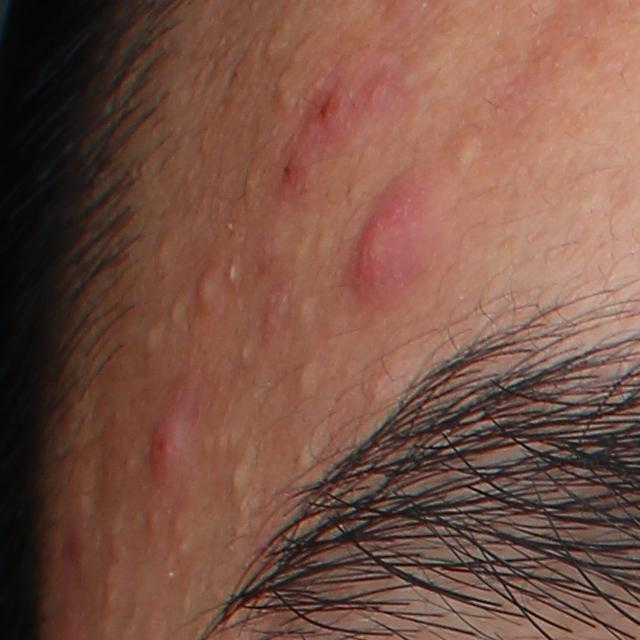comedo: (443, 126, 485, 173), (227, 451, 254, 500), (293, 359, 317, 399), (141, 321, 161, 359), (167, 298, 182, 324), (237, 343, 252, 362)
papule: (345, 197, 419, 300), (144, 409, 187, 490), (187, 264, 221, 321)
